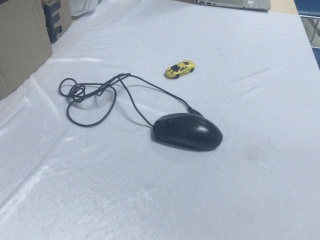mouse: (152, 113, 224, 152)
toy_car: (162, 55, 198, 82)
